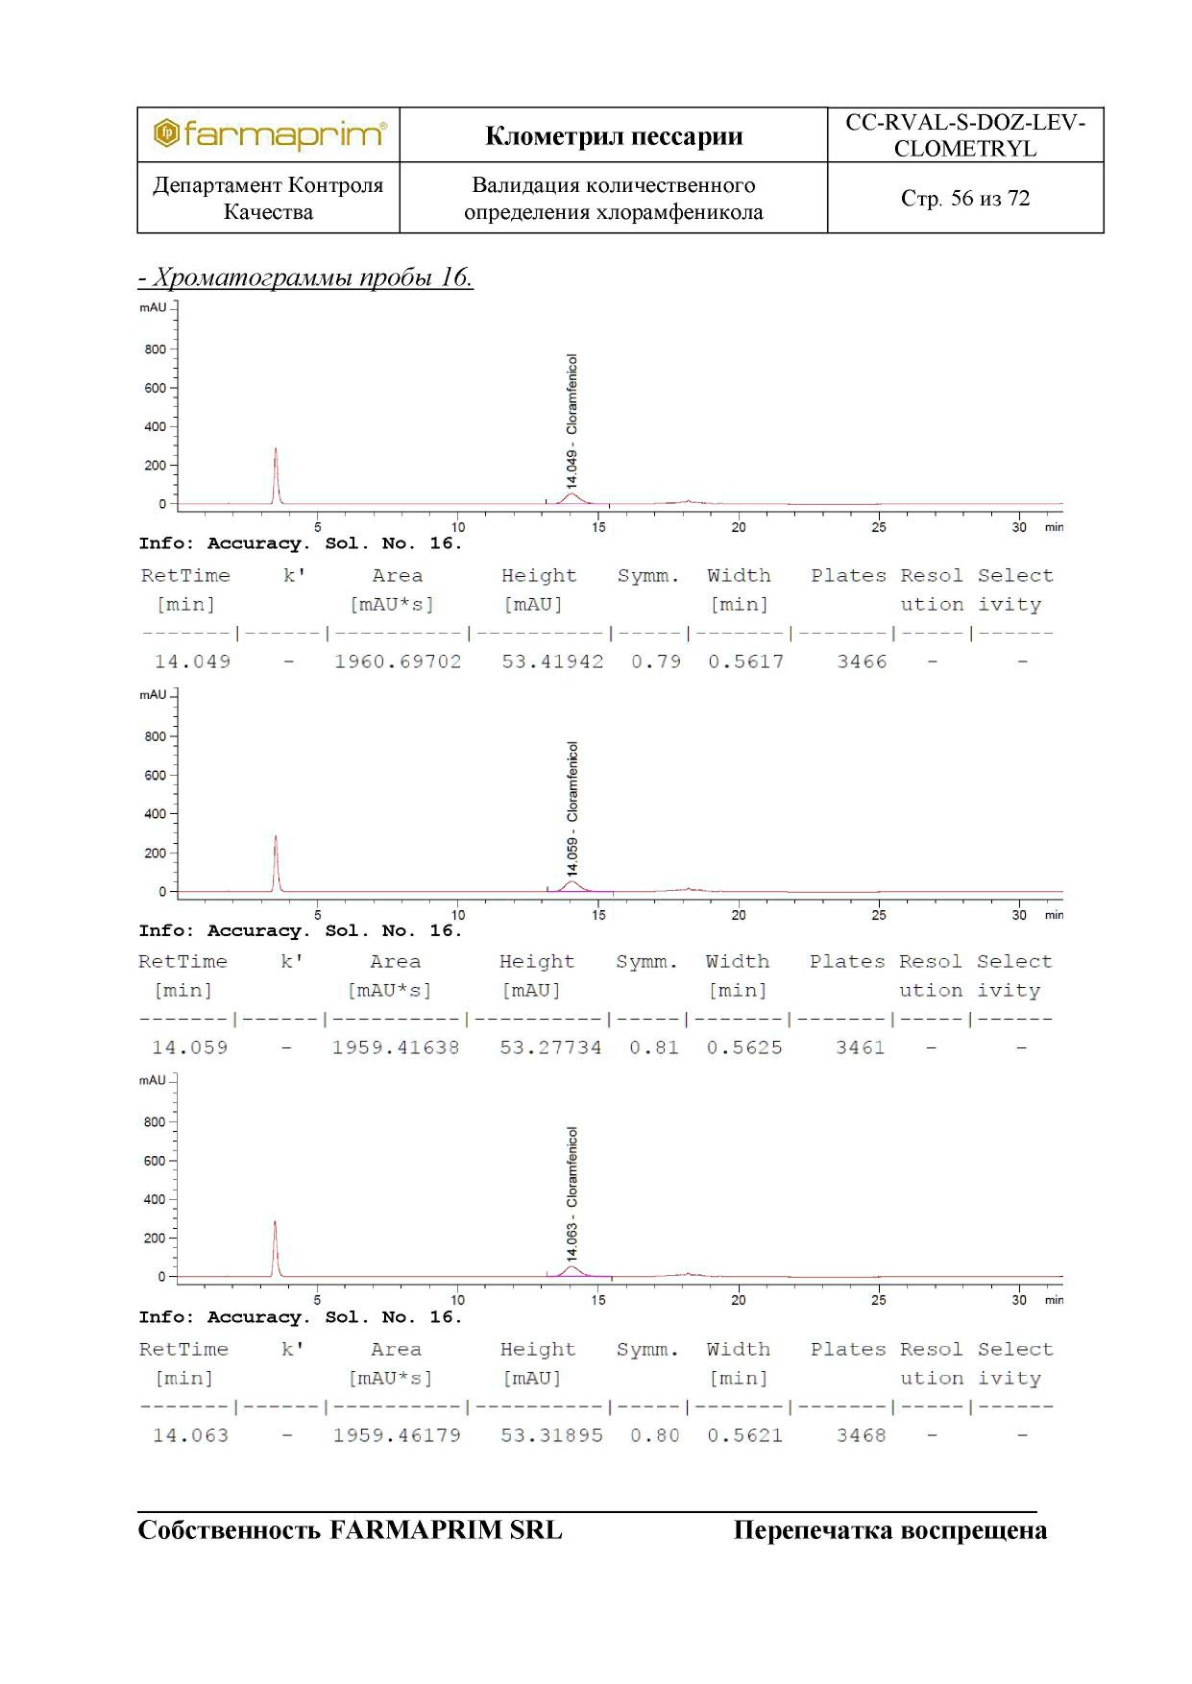full_lined: (135, 103, 1106, 236)
partial_lined: (137, 1336, 1060, 1451), (135, 949, 1057, 1061), (141, 563, 1057, 676)
